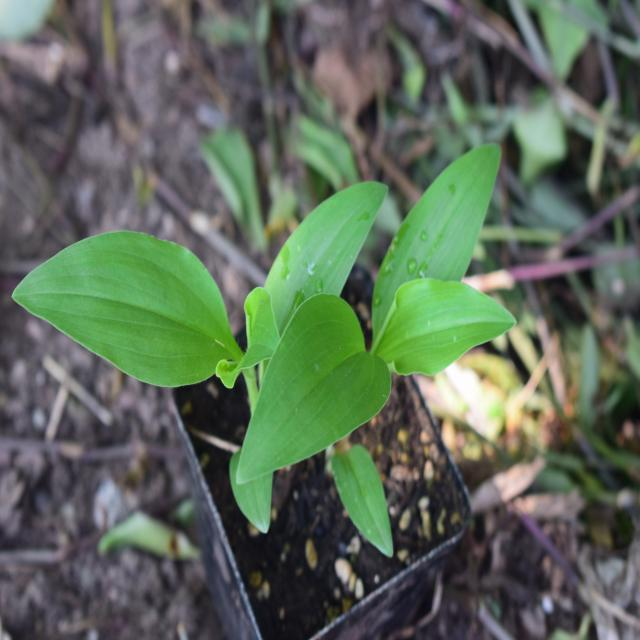Common Dayflower: (246, 125, 493, 548), (15, 208, 244, 403)
